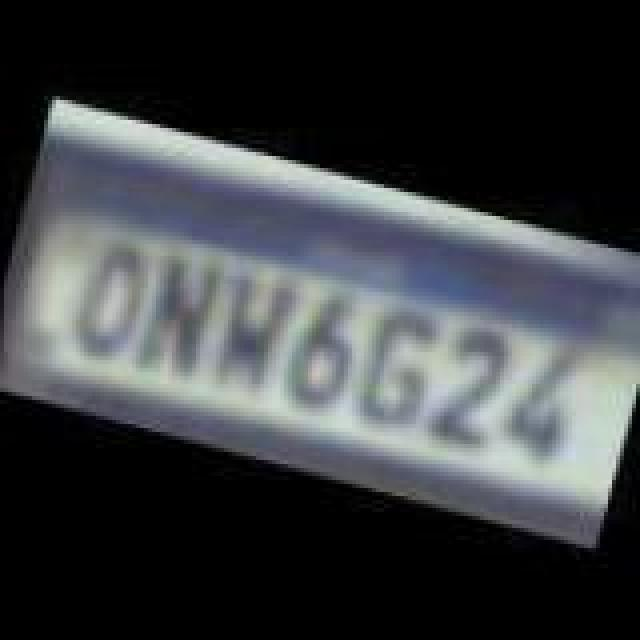2: (408, 308, 516, 452)
4: (490, 330, 594, 470)
6: (272, 278, 376, 418)
G: (340, 296, 440, 436)
N: (132, 246, 228, 386)
O: (66, 230, 158, 362)
W: (204, 266, 292, 402)
